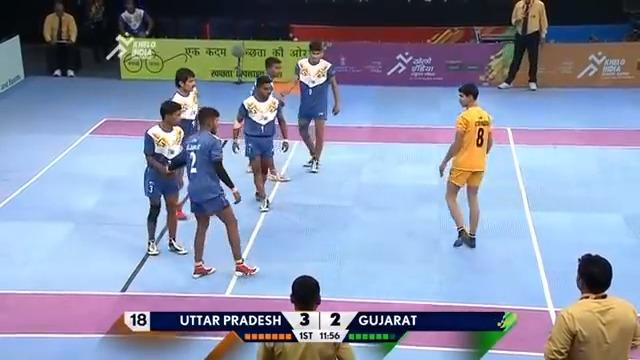Player: (172, 106, 259, 278), (279, 39, 341, 172), (231, 75, 289, 211), (142, 99, 188, 255), (166, 67, 200, 220)
Raider: (438, 82, 493, 248)
referee: (543, 252, 639, 359), (255, 274, 356, 359), (496, 0, 548, 90), (42, 1, 79, 77), (81, 0, 111, 62)
